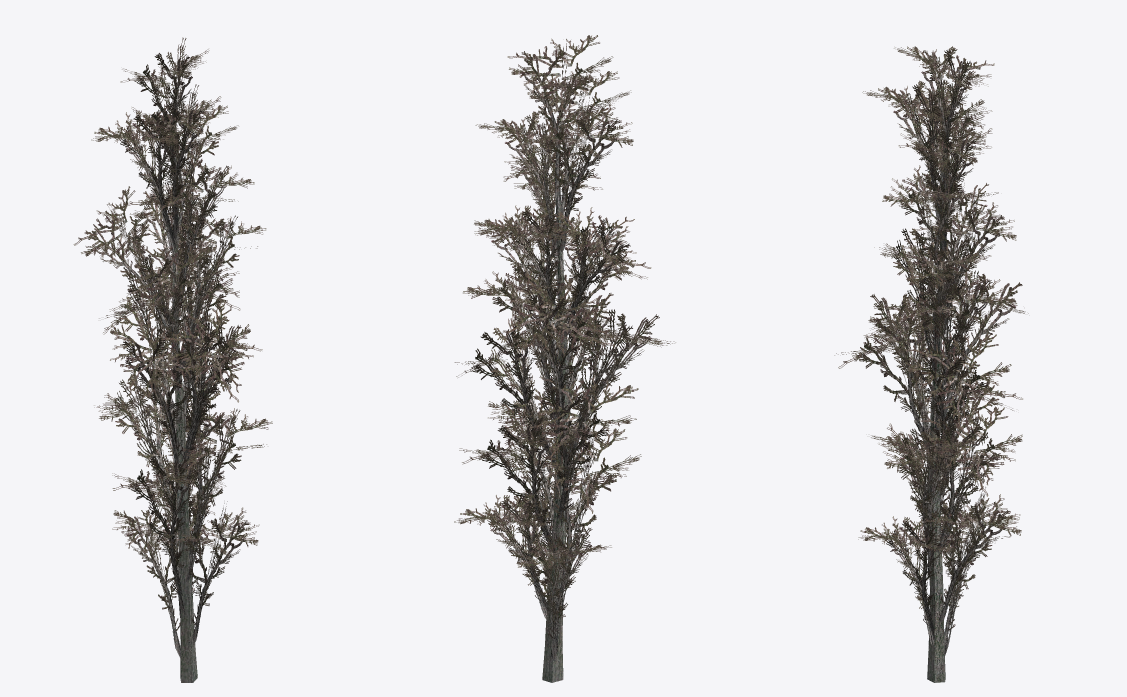
File: flora_tree_poplar_lombardy_dead_v2.glb
3 renders of one model, left to right at view 1: azimuth 30°, elevation 25°; view 2: azimuth 150°, elevation 25°; view 3: azimuth 270°, elevation 25°, orthographic.
Visible parts, largest first — view 1: flora_tree_poplar_lombardy_dead_v2_part0; view 2: flora_tree_poplar_lombardy_dead_v2_part0; view 3: flora_tree_poplar_lombardy_dead_v2_part0.
Part boxes in pixels (<box>): flora_tree_poplar_lombardy_dead_v2_part0: <box>73,37,272,682</box>; flora_tree_poplar_lombardy_dead_v2_part0: <box>454,35,675,682</box>; flora_tree_poplar_lombardy_dead_v2_part0: <box>834,46,1028,682</box>.
Size of the model in its own units: 8.67 by 18.47 by 9.
Materials: 1 (1 with a texture image).
